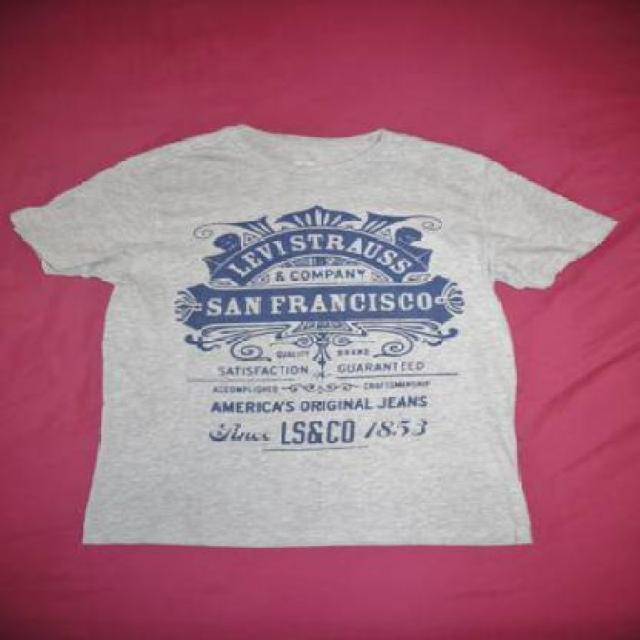shirt: (6, 120, 634, 551)
